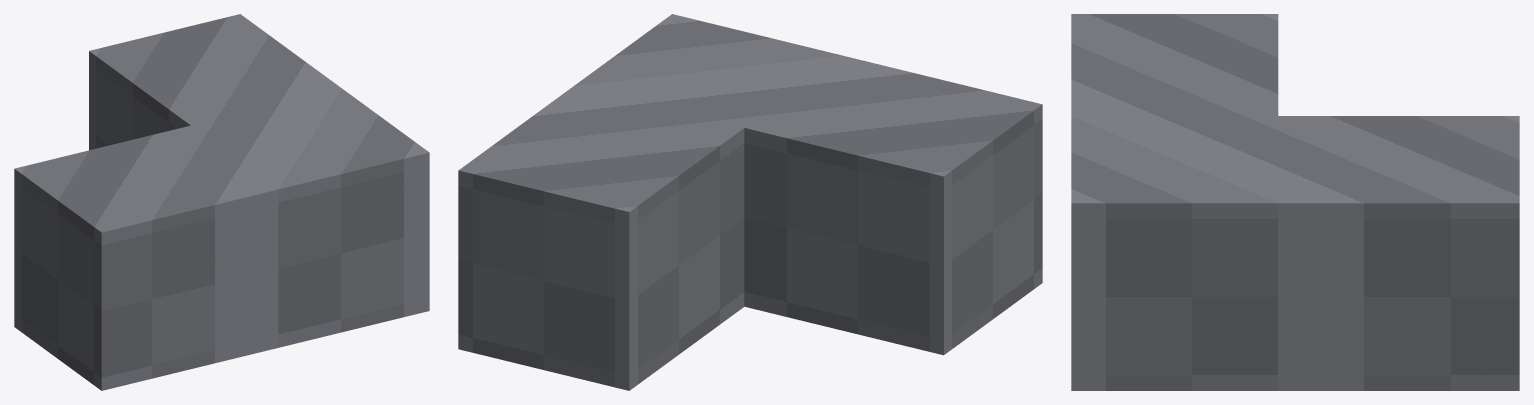
The model's file is pipe_elbow.glb.
The picture shows the model from 3 angles, left to right: view 1: azimuth 30°, elevation 25°; view 2: azimuth 150°, elevation 25°; view 3: azimuth 270°, elevation 25°; orthographic projection. The views are drawn at different scales.
Bounding box in the file's own units: 0.65 × 0.3 × 0.65.
Materials: 1 (1 with a texture image).
